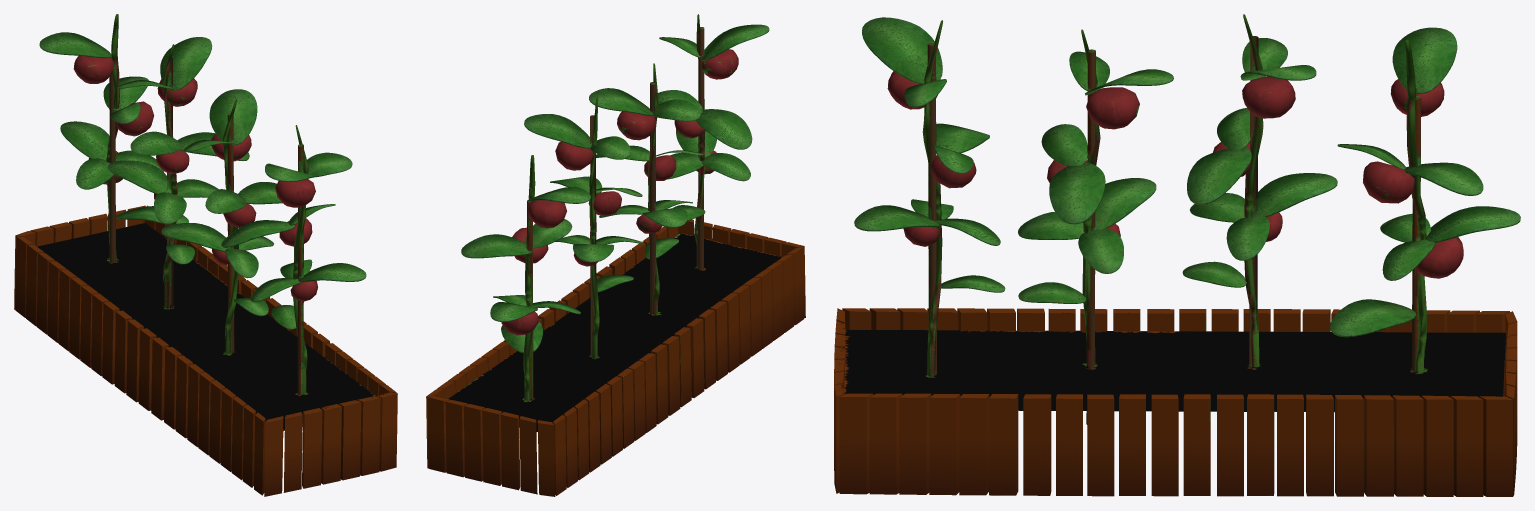
File: tomato.glb
3 views of the same model, side by side, from view 1: azimuth 30°, elevation 25°; view 2: azimuth 150°, elevation 25°; view 3: azimuth 270°, elevation 25° (orthographic). The views are drawn at different scales.
Parts seen in each view (by area): view 1: LP; view 2: LP; view 3: LP.
Boxes of the visible parts, left/top/right/bottom form: LP: left=14, top=14, right=397, bottom=496; LP: left=426, top=14, right=805, bottom=496; LP: left=834, top=14, right=1520, bottom=496.
Size of the model in its own units: 1 by 2.28 by 3.26.
1 material, 1 textured.
